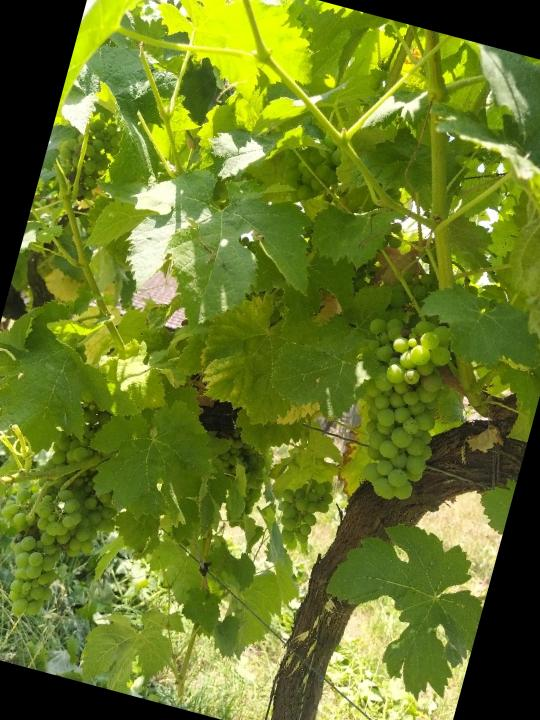grape: (324, 306, 467, 511), (0, 473, 90, 627)
